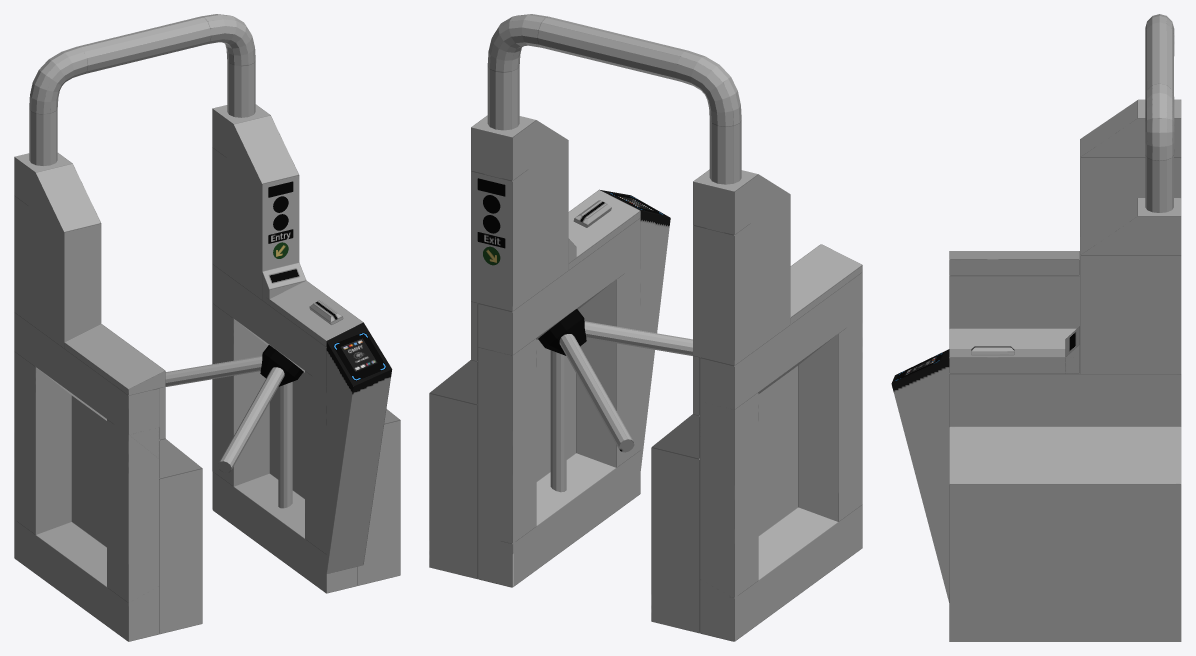
File: nyc_subway_fare_gate_1_twoway_open_exit.obj
3 renders of one model, left to right at view 1: azimuth 30°, elevation 25°; view 2: azimuth 150°, elevation 25°; view 3: azimuth 270°, elevation 25°, orthographic. The views are drawn at different scales.
Visible parts, largest first — view 1: left, right, cube, top, turnstile; view 2: left, right, top, turnstile, cube; view 3: right, left, cube, top.
Boxes of the visible parts, bbox=[...] form: left: bbox=[14, 153, 202, 641]; right: bbox=[212, 104, 400, 593]; cube: bbox=[326, 322, 392, 573]; top: bbox=[29, 14, 255, 165]; turnstile: bbox=[165, 345, 303, 508]; left: bbox=[651, 169, 862, 641]; right: bbox=[429, 115, 640, 587]; top: bbox=[487, 14, 741, 184]; turnstile: bbox=[538, 309, 692, 492]; cube: bbox=[599, 189, 670, 470]; right: bbox=[949, 198, 1181, 641]; left: bbox=[949, 99, 1181, 348]; cube: bbox=[891, 349, 949, 602]; top: bbox=[1145, 14, 1174, 212].
Bounding box in the file's own units: 1.38 × 2.44 × 1.25.
1 material, 1 textured.
